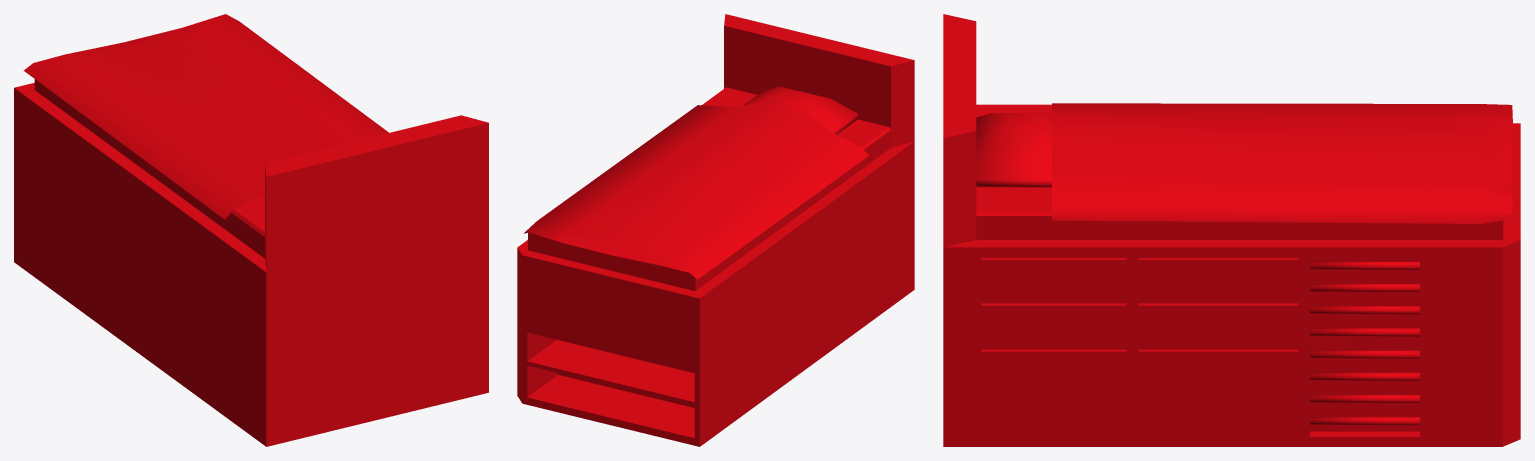
File: Bed.fbx
3 renders of one model, left to right at view 1: azimuth 30°, elevation 25°; view 2: azimuth 150°, elevation 25°; view 3: azimuth 270°, elevation 25°, orthographic. The views are drawn at different scales.
Visible parts, largest first — view 1: Cube, Plane.004; view 2: Cube, Plane.004, Cube.001; view 3: Cube, Plane.004, Cylinder, Cube.001.
Boxes of the visible parts, box(x1,y1,x2,y2) form: Cube: box(14, 79, 488, 446); Plane.004: box(23, 14, 388, 219); Cube: box(517, 14, 914, 446); Plane.004: box(524, 102, 868, 279); Cube.001: box(743, 86, 858, 134); Cube: box(943, 14, 1520, 446); Plane.004: box(1052, 103, 1512, 223); Cylinder: box(1310, 261, 1419, 425); Cube.001: box(976, 113, 1053, 187).
Bounding box in the file's own units: 195 × 222 × 377.
